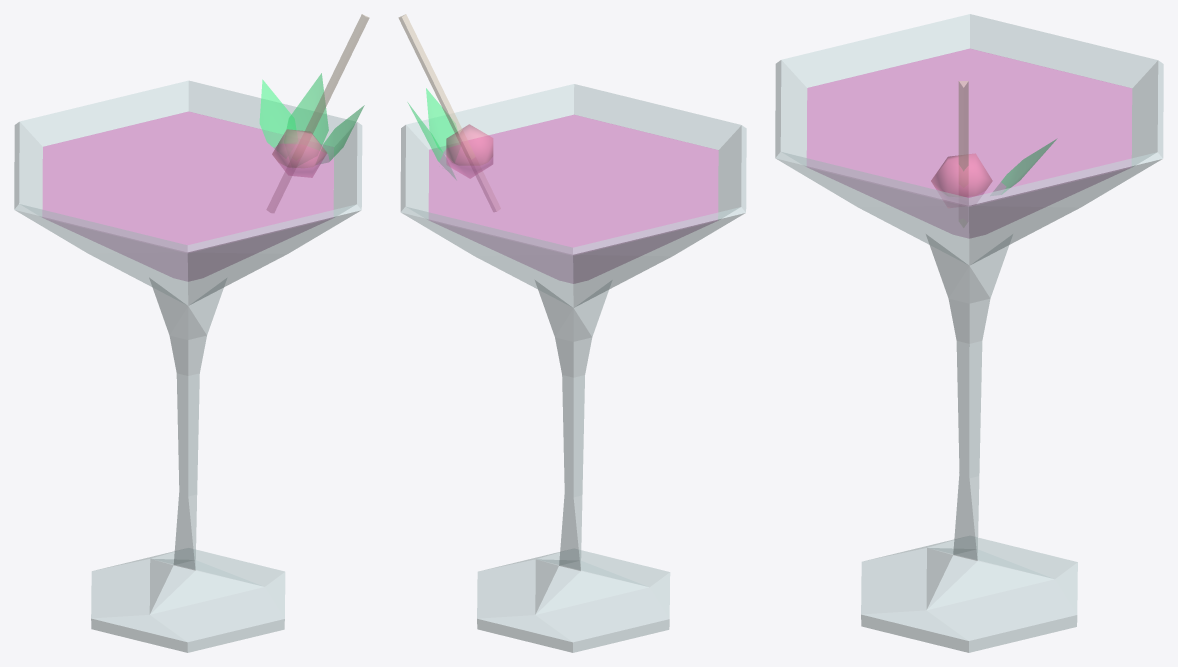
Rendered from glass_03.glb.
3 views of the same model, side by side, from view 1: azimuth 30°, elevation 25°; view 2: azimuth 150°, elevation 25°; view 3: azimuth 270°, elevation 25° (orthographic). The views are drawn at different scales.
Visible parts, largest first — view 1: Glass03; view 2: Glass03; view 3: Glass03.
Part boxes in pixels (x1,y1,x2,y2): Glass03: (14,14,369,652); Glass03: (398,14,746,652); Glass03: (775,14,1163,652).
Bounding box in the file's own units: 0.1444 × 0.215 × 0.1234.
Materials: 1 (1 with a texture image).
